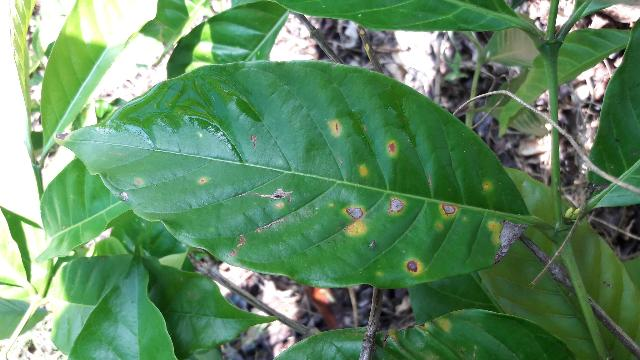rust_level_4: (54, 62, 531, 288)
